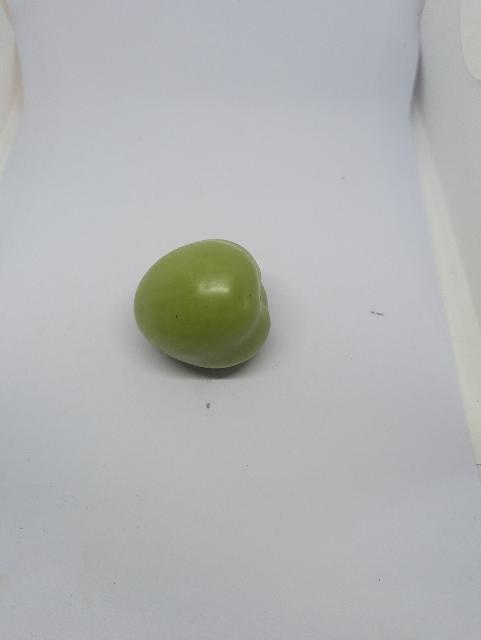green: (125, 234, 298, 382)
